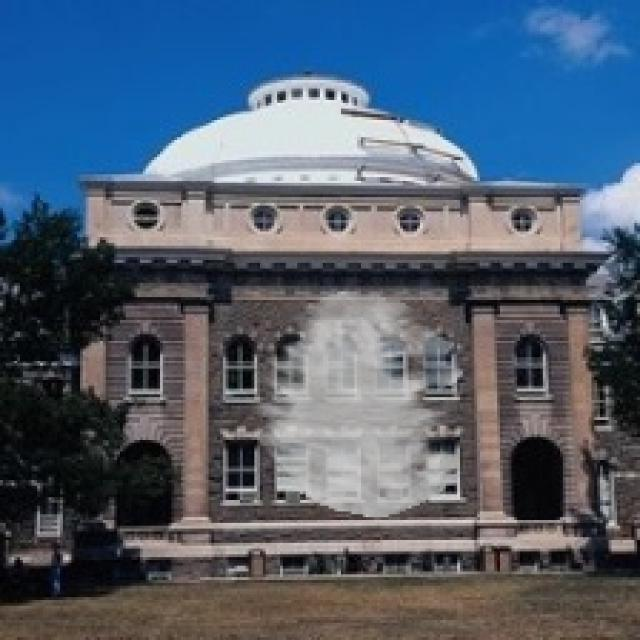smoke: (251, 292, 463, 517)
